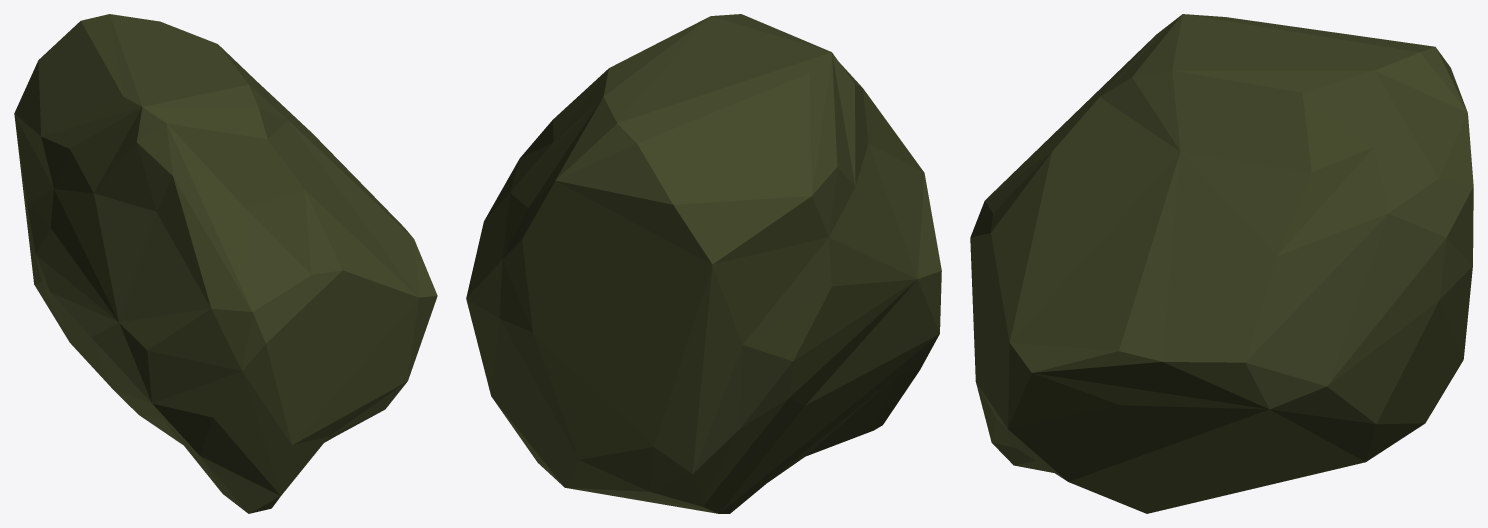
The model's file is SM_small_rock_16.fbx.
3 renders of one model, left to right at view 1: azimuth 30°, elevation 25°; view 2: azimuth 150°, elevation 25°; view 3: azimuth 270°, elevation 25°, orthographic. The views are drawn at different scales.
Visible parts, largest first — view 1: small_rock_16; view 2: small_rock_16; view 3: small_rock_16.
Boxes of the visible parts, x1,y1,x2,y2 form: small_rock_16: (14,14,437,513); small_rock_16: (466,14,941,513); small_rock_16: (970,14,1473,513).
Bounding box in the file's own units: 10.06 × 12.02 × 12.62.
